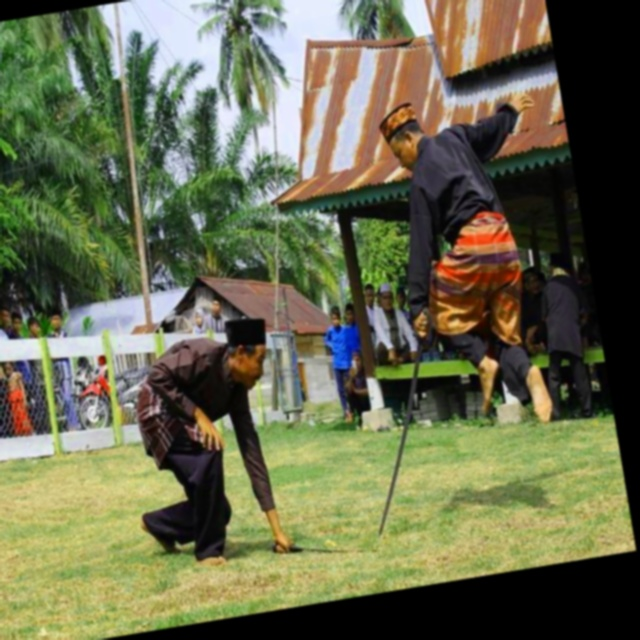Sharp-Object: (339, 305, 465, 543)
